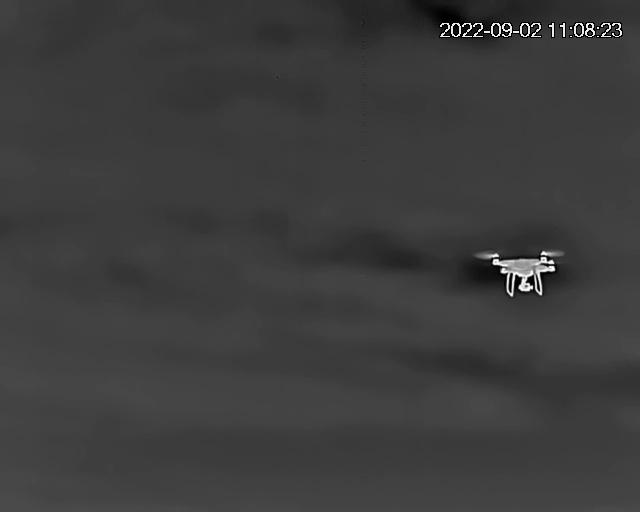DJI-Phantom: (480, 248, 563, 298)
